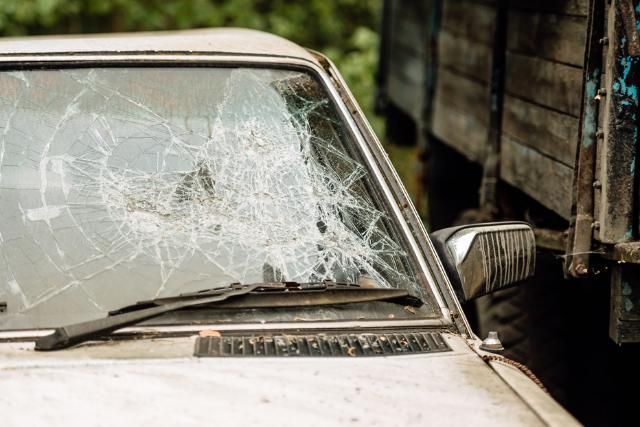Windshield: (0, 61, 434, 328)
